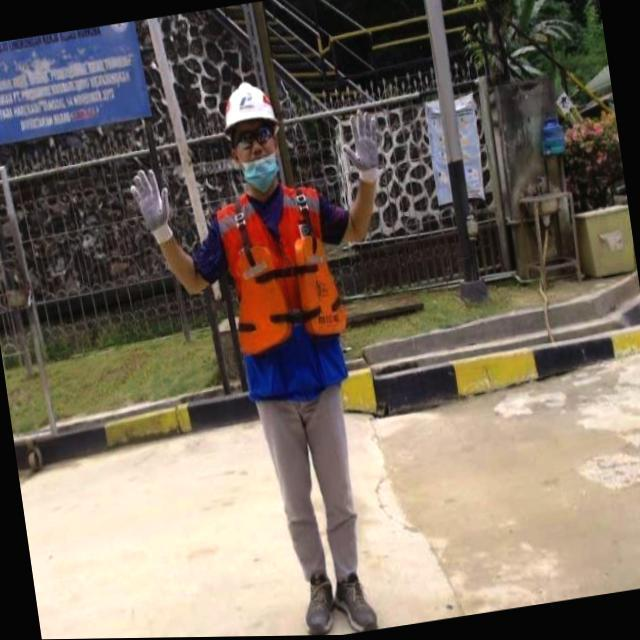goggles_on: (225, 116, 287, 154)
